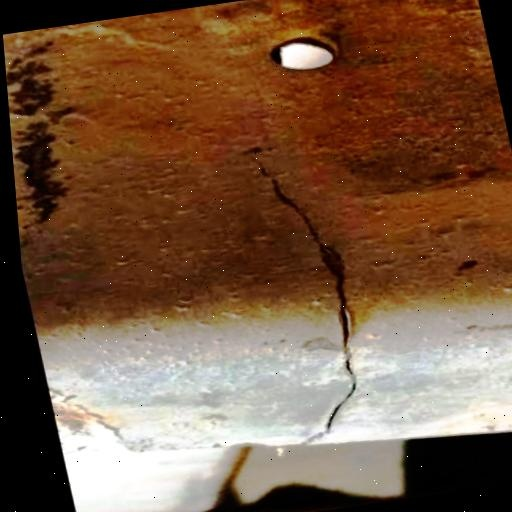crack: (243, 149, 394, 447)
